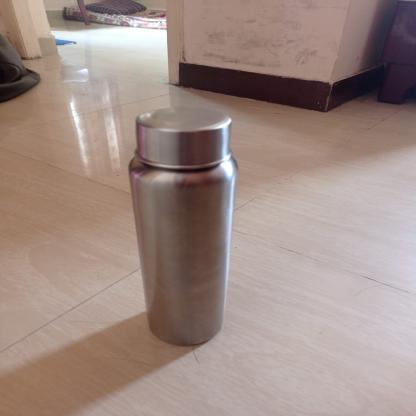bottle: (119, 103, 256, 349)
